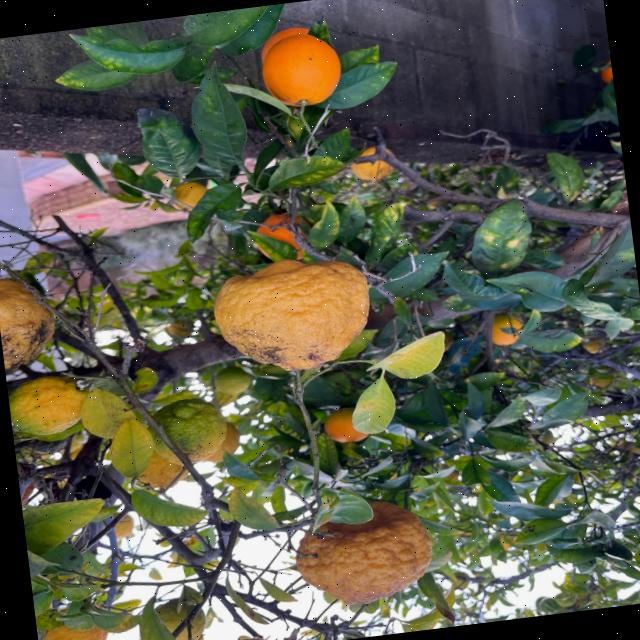overripe: (197, 242, 385, 382), (284, 494, 453, 620)
